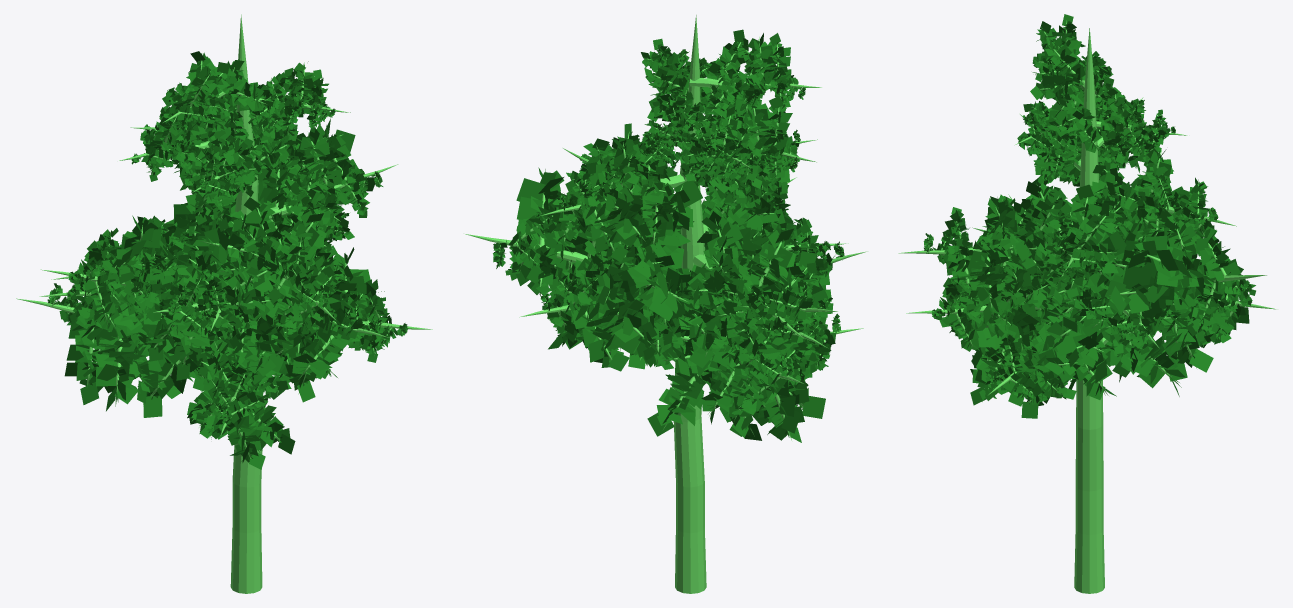
The model's file is Tree 1.fbx.
The picture shows the model from 3 angles, left to right: view 1: azimuth 30°, elevation 25°; view 2: azimuth 150°, elevation 25°; view 3: azimuth 270°, elevation 25°; orthographic projection. The views are drawn at different scales.
Parts seen in each view (by area): view 1: Tree2.001; view 2: Tree2.001; view 3: Tree2.001.
Part boxes in pixels (<box>): Tree2.001: <box>16,14,432,593</box>; Tree2.001: <box>465,15,867,593</box>; Tree2.001: <box>898,14,1276,593</box>.
Size of the model in its own units: 3497 by 5999 by 3709.
